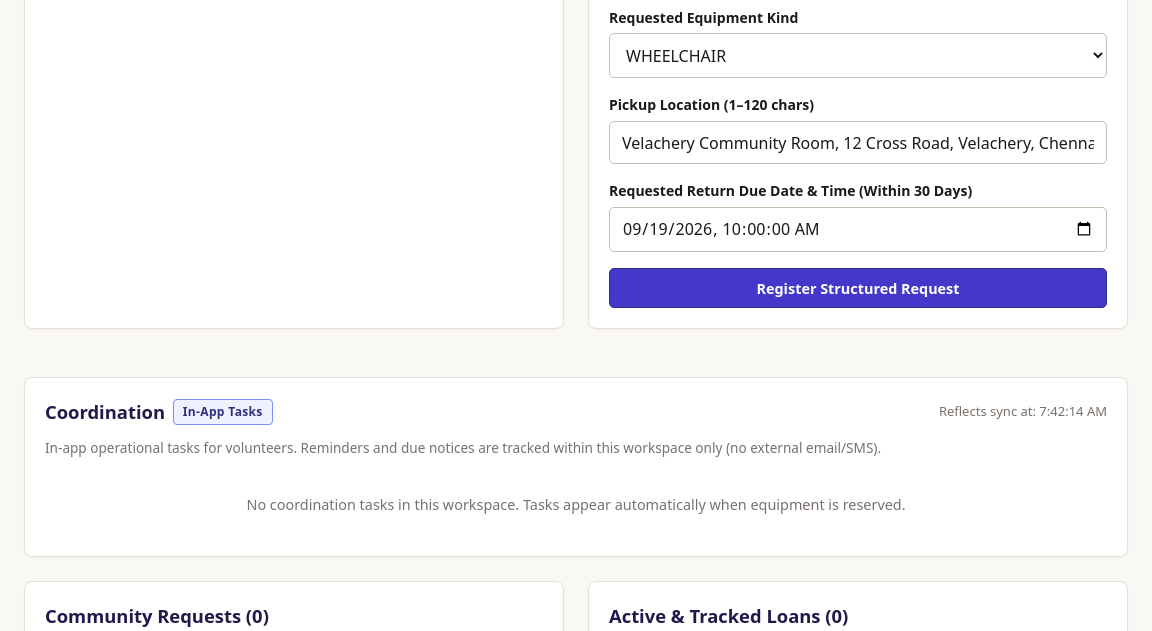
review R1: unreadable 200 mutation body preserves safe retry
(page scrolled)
Click the button "Register Structured Request". click: click(858, 288)
box: [609,268,1107,308]
(page scrolled)
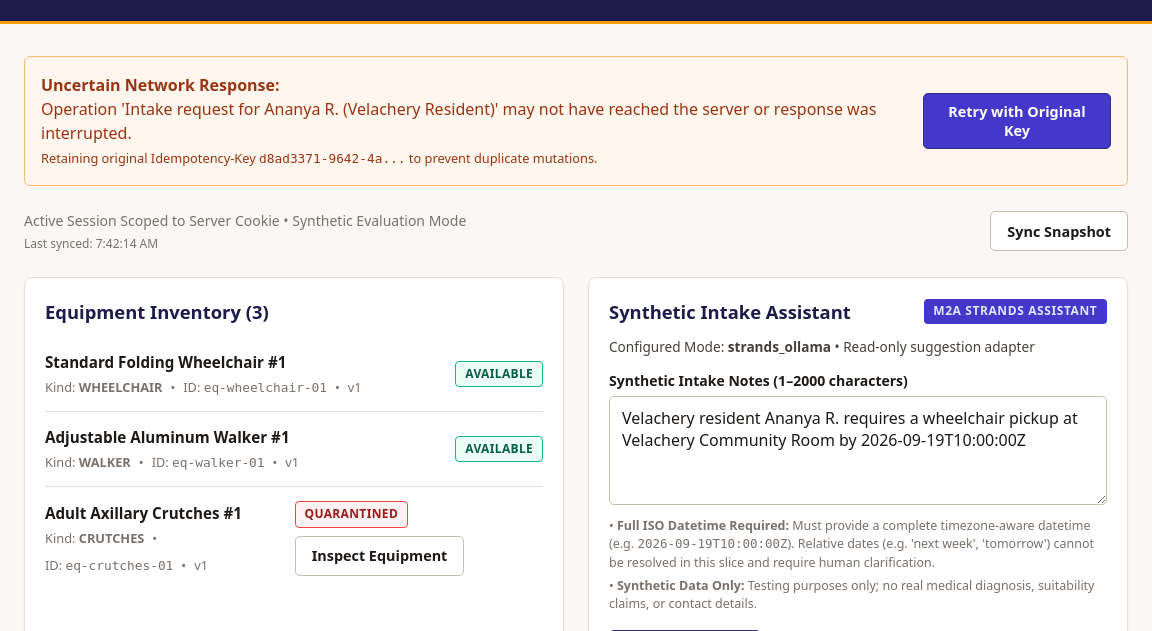
Result: the message is shown at [24,56,1128,186]
Result: the button "Retry with Original Key" is shown at [923,93,1111,149]
